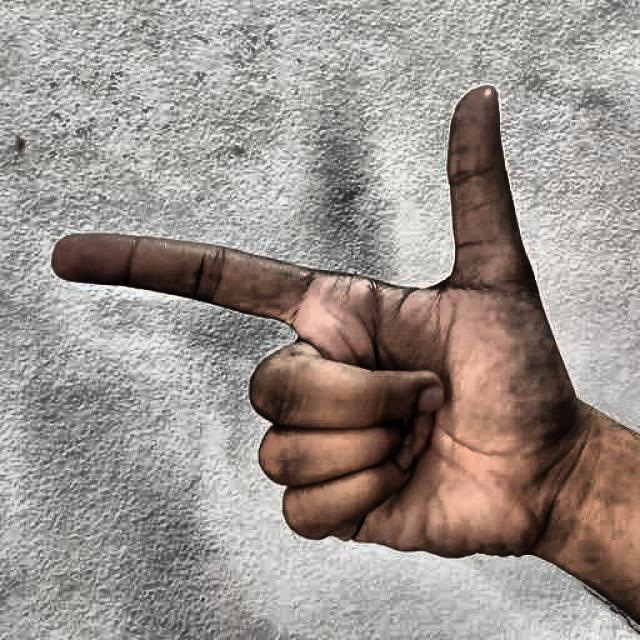Tha: (40, 62, 586, 590)
